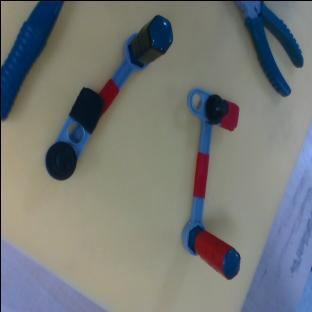non_pass: (27, 4, 180, 185)
pass: (180, 87, 239, 278)
